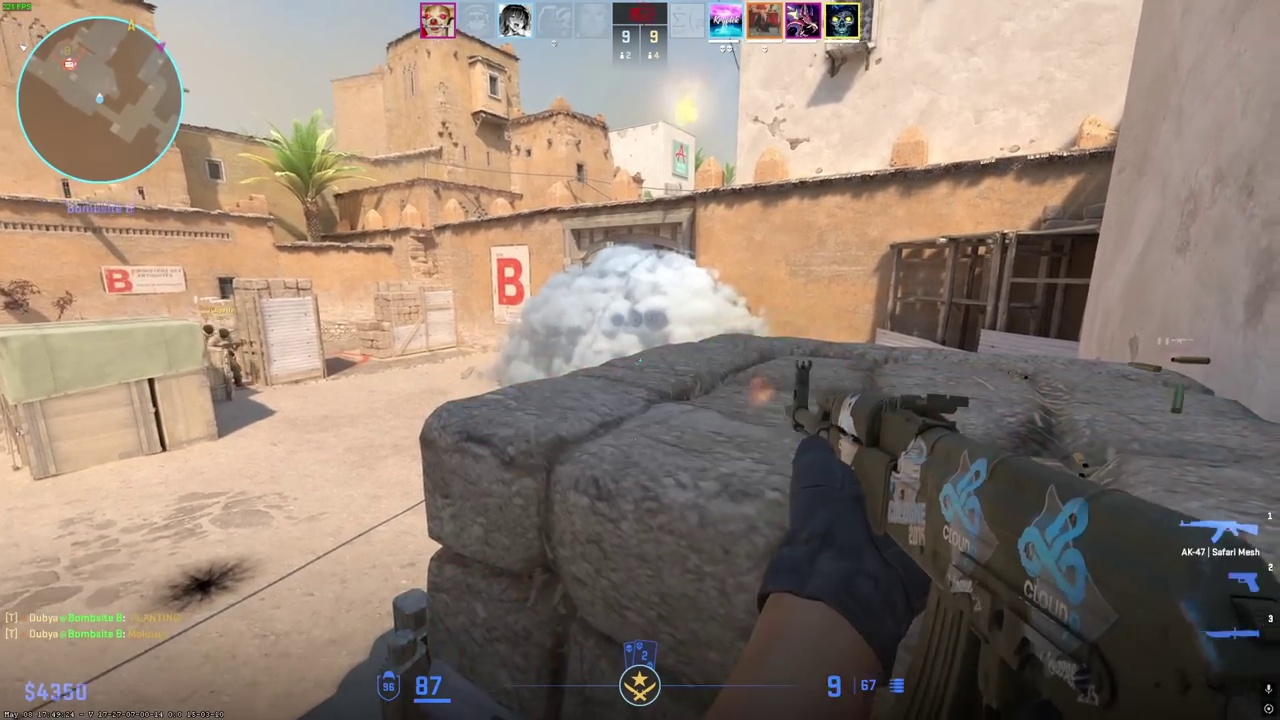Terrorist: (211, 328, 242, 389)
